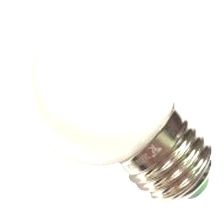light_bulb: (16, 4, 218, 210)
